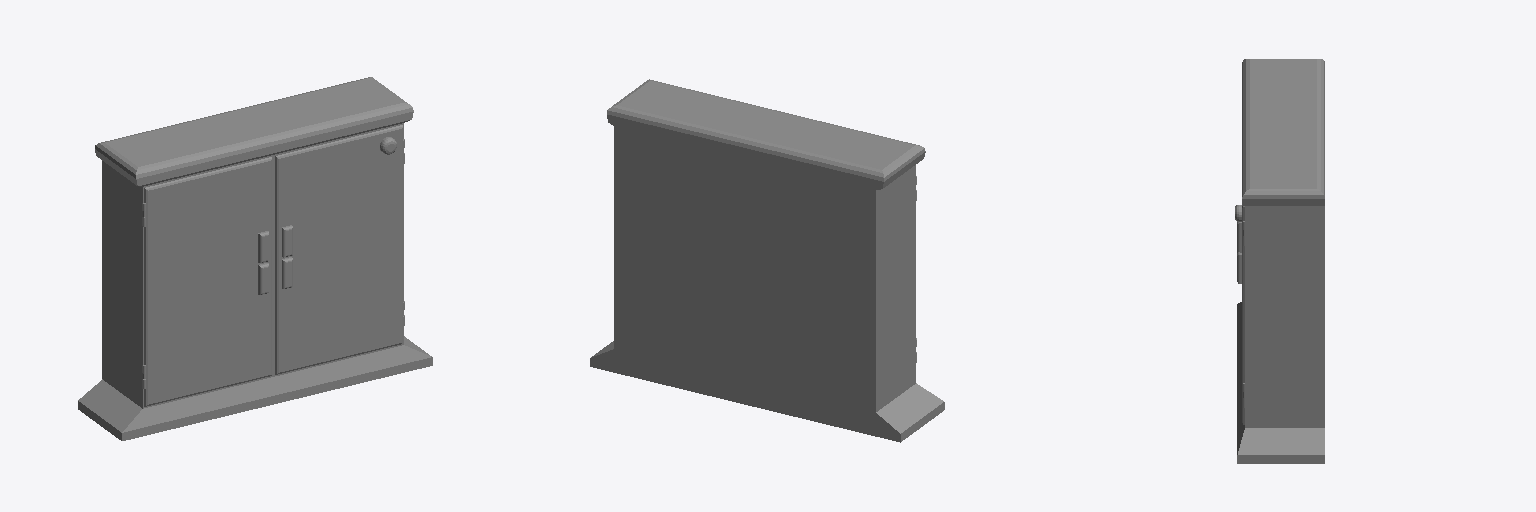
The picture shows the model from 3 angles: view 1: azimuth 30°, elevation 25°; view 2: azimuth 150°, elevation 25°; view 3: azimuth 270°, elevation 25°; orthographic projection.
Visible parts, largest first — view 1: g_ElectricalBox_meshId0_name; view 2: g_ElectricalBox_meshId0_name; view 3: g_ElectricalBox_meshId0_name.
Boxes of the visible parts, x1,y1,x2,y2 form: g_ElectricalBox_meshId0_name: [78, 77, 432, 440]; g_ElectricalBox_meshId0_name: [590, 79, 944, 442]; g_ElectricalBox_meshId0_name: [1235, 59, 1324, 463].
Size of the model in its own units: 0.02 by 0.0163 by 0.0051.